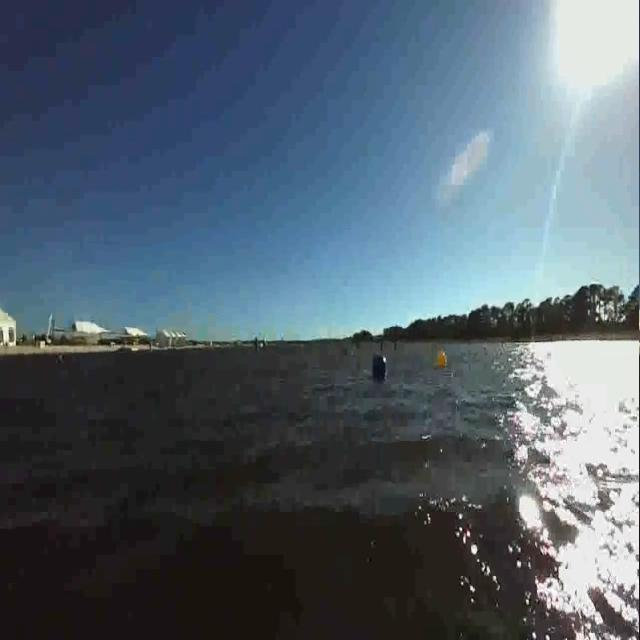blue-buoy: (373, 352, 387, 378)
yellow-buoy: (436, 349, 446, 369)
